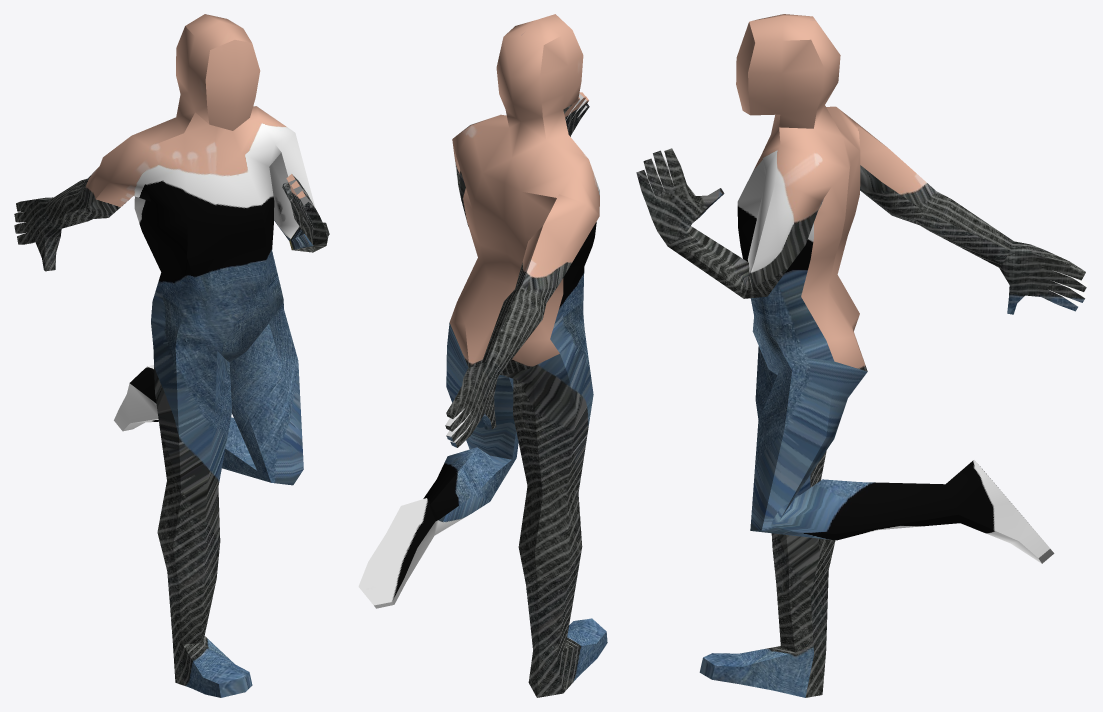
Rendered from human19.obj.
The picture shows the model from 3 angles, left to right: view 1: azimuth 30°, elevation 25°; view 2: azimuth 150°, elevation 25°; view 3: azimuth 270°, elevation 25°; orthographic projection. The views are drawn at different scales.
Visible parts, largest first — view 1: HumanMale; view 2: HumanMale; view 3: HumanMale.
Boxes of the visible parts, x1,y1,x2,y2 form: HumanMale: (14,14,329,697); HumanMale: (358,14,607,697); HumanMale: (636,14,1088,697).
Size of the model in its own units: 0.3648 by 1.32 by 0.7837.
1 material, 1 textured.
